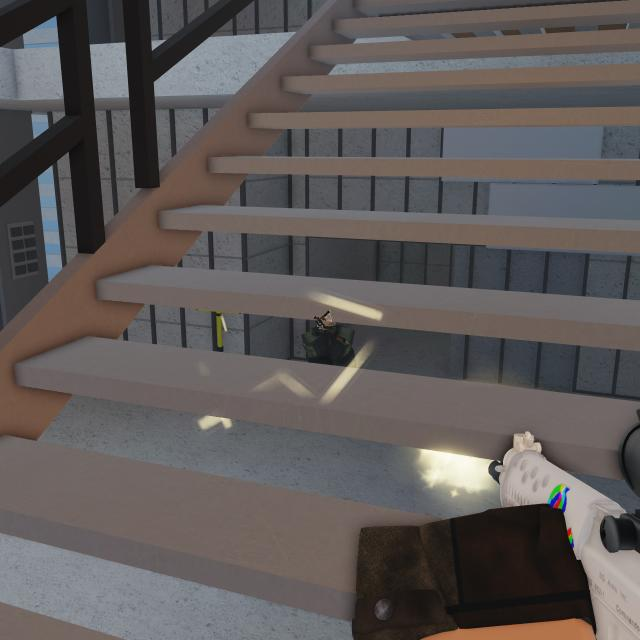Head: (314, 308, 338, 328)
Player: (302, 307, 356, 372)
